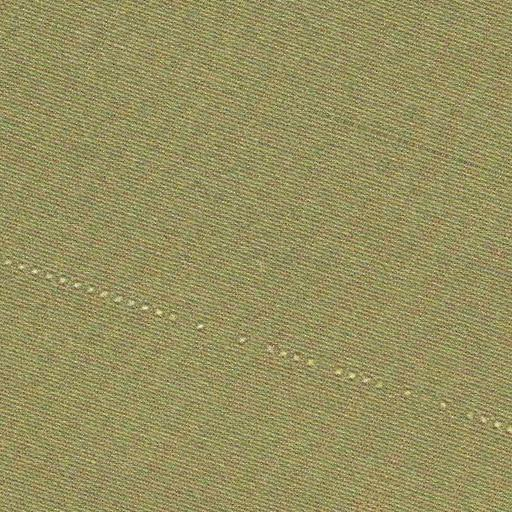slub: (2, 222, 512, 449)
